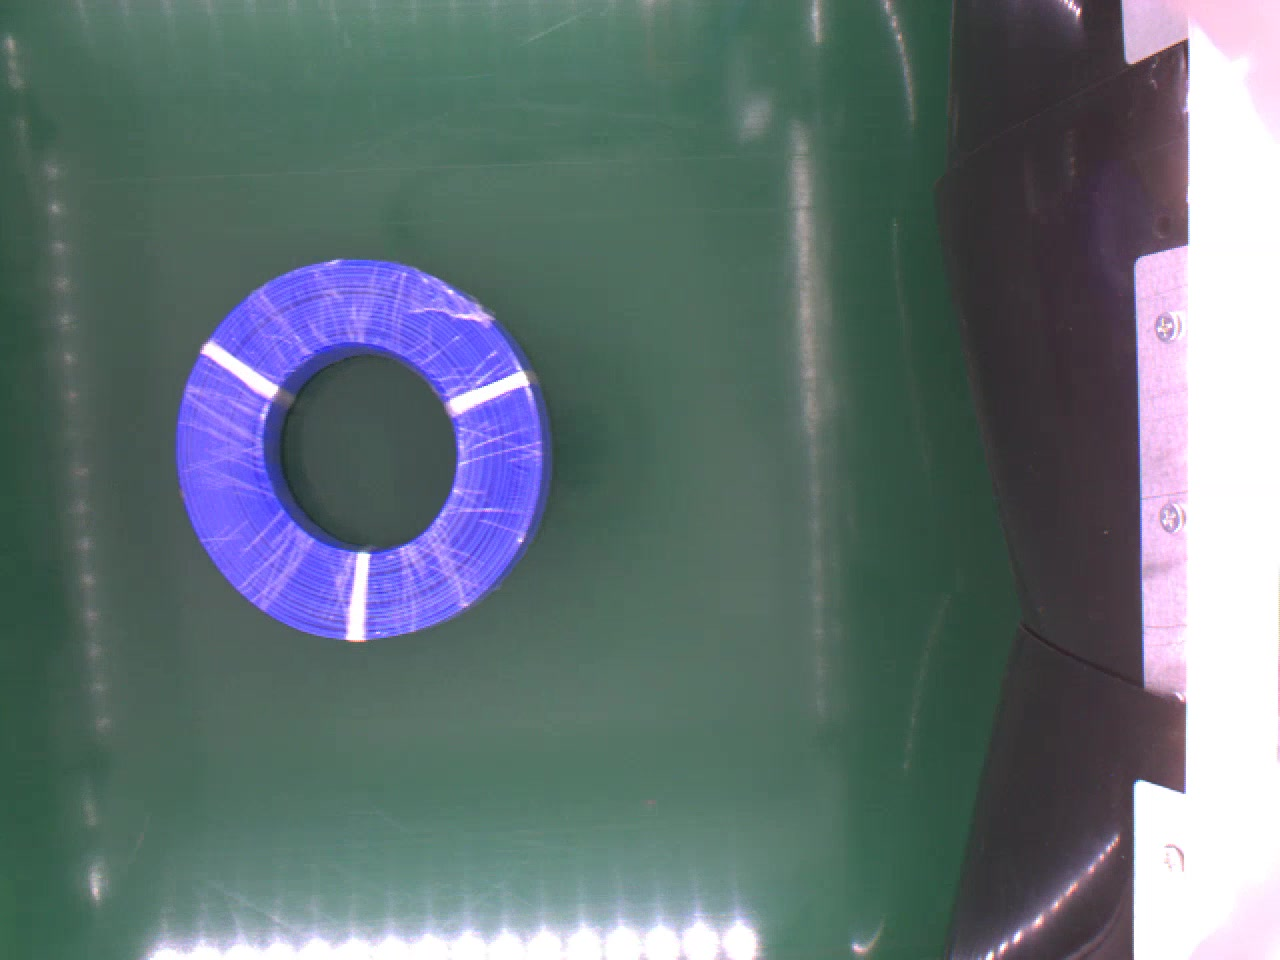blue: (170, 252, 553, 643)
